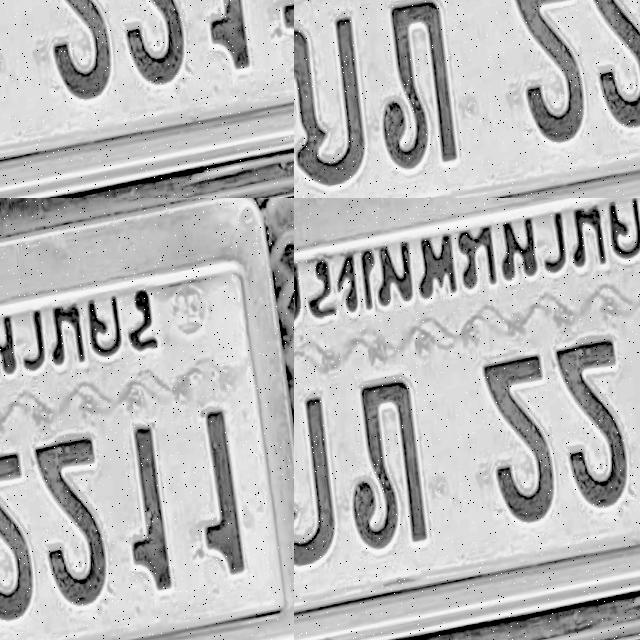license-plate: (294, 198, 640, 640), (294, 134, 446, 198)
